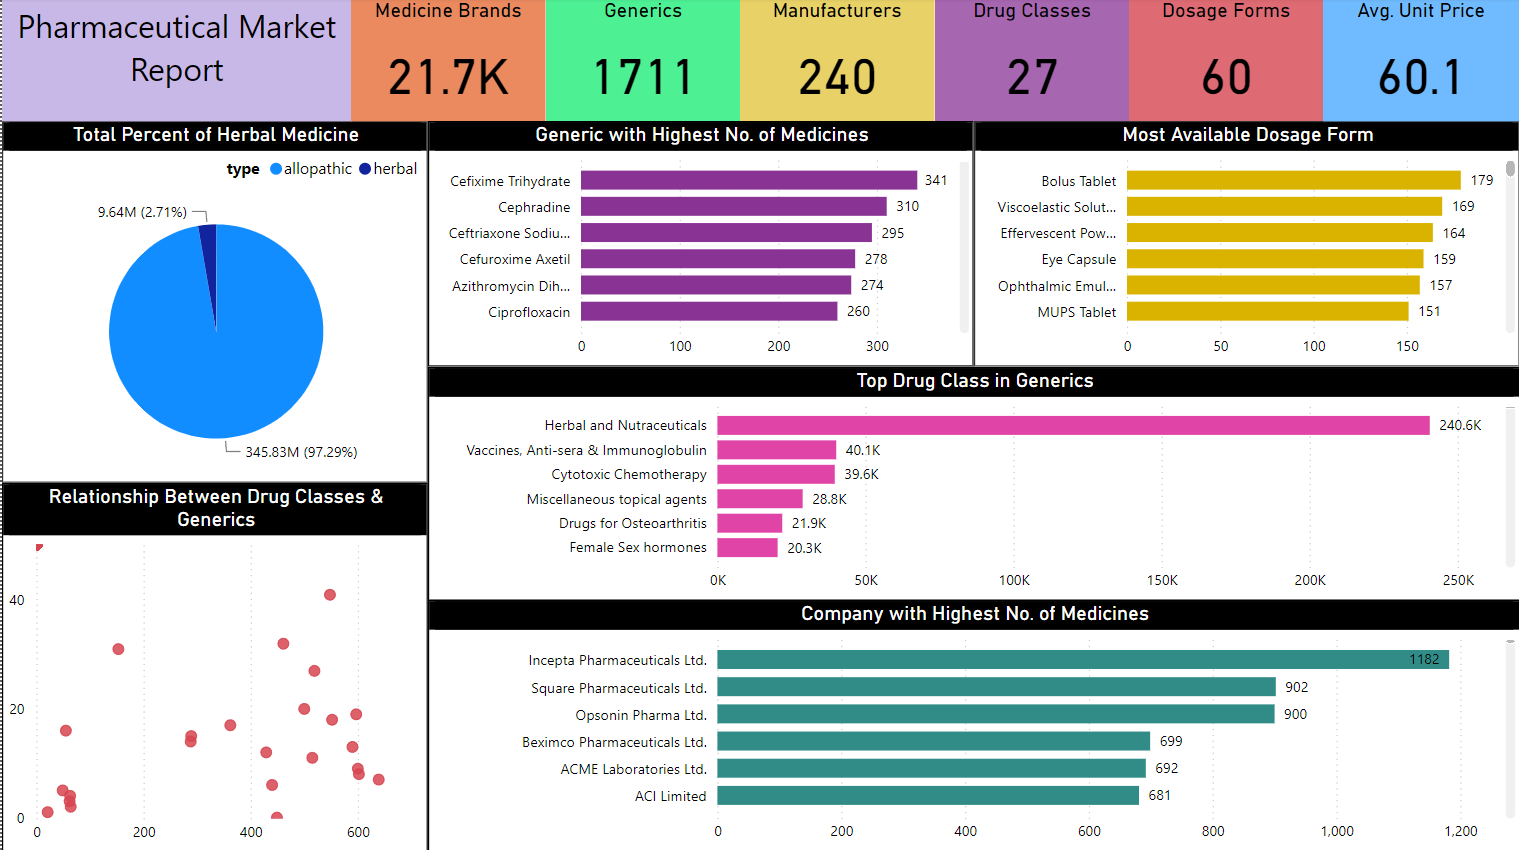

This screenshot's page, from the dashboard's own definition file:
{"tool":"powerbi","page":{"name":"Exploratory Data Analysis","canvas":[1280,720],"ordinal":0},"visuals":[{"type":"pieChart","title":"Total Percent of Herbal Medicine","fields":{"Y":["Sum(medicine.brand id)"],"Category":["medicine.type"]},"box":[0,103.7,359.2,305.2],"z":0},{"type":"textbox","box":[0,0,294.6,103.9],"z":1000},{"type":"card","title":"Medicine Brands","fields":{"Values":["Count(medicine.brand id)"]},"box":[294.6,0,163.9,103.9],"z":2000},{"type":"card","title":"Generics","fields":{"Values":["Count(generic.generic id)"]},"box":[458.5,0,163.9,103.9],"z":3000},{"type":"card","title":"Manufacturers","fields":{"Values":["Count(manufacturer.manufacturer id)"]},"box":[622.4,0,163.9,103.9],"z":4000},{"type":"card","title":"Drug Classes","fields":{"Values":["Count(drug class.drug class id)"]},"box":[786.3,0,163.9,103.9],"z":5000},{"type":"card","title":"Dosage Forms","fields":{"Values":["Count(dosage form.dosage form id)"]},"box":[950.1,0,163.9,103.9],"z":6000},{"type":"barChart","title":"Most Available Dosage Form","fields":{"Category":["dosage form.dosage form name"],"Y":["Max(dosage form.dosage form id)"]},"box":[819.4,103.9,460.3,206.9],"z":7000},{"type":"barChart","title":"Generic with Highest No. of Medicines","fields":{"Category":["medicine.generic"],"Y":["Count(medicine.brand id)"]},"box":[359.1,103.9,460.3,206.9],"z":8000},{"type":"barChart","title":"Top Drug Class in Generics","fields":{"Y":["Sum(generic.generic id)"],"Category":["generic.drug class"]},"box":[359.1,310.7,920.6,197],"z":9000},{"type":"barChart","title":"Company with Highest No. of Medicines","fields":{"Y":["Count(medicine.brand id)"],"Category":["medicine.manufacturer"]},"box":[359.1,507.8,920.6,212.2],"z":10000},{"type":"scatterChart","title":"Relationship Between Drug Classes & Generics","fields":{"X":["drug class.drug class id"],"Y":["manufacturer.generics count"]},"box":[0,408.9,359.2,311.1],"z":11000},{"type":"card","title":"Avg. Unit Price","fields":{"Values":["Avg(medicine.Price)"]},"box":[1114,0,165.7,103.9],"z":12000}]}

Visuals, with their boxes in screenshot pixels (x1, y1, x2, y2), scaled from the page's 1280x720 canvas onto the 1519x850 screenshot:
"Total Percent of Herbal Medicine" pieChart: bbox=[0, 122, 426, 483]
textbox: bbox=[0, 0, 350, 123]
"Medicine Brands" card: bbox=[350, 0, 544, 123]
"Generics" card: bbox=[544, 0, 739, 123]
"Manufacturers" card: bbox=[739, 0, 933, 123]
"Drug Classes" card: bbox=[933, 0, 1128, 123]
"Dosage Forms" card: bbox=[1128, 0, 1322, 123]
"Most Available Dosage Form" barChart: bbox=[972, 123, 1518, 367]
"Generic with Highest No. of Medicines" barChart: bbox=[426, 123, 972, 367]
"Top Drug Class in Generics" barChart: bbox=[426, 367, 1518, 599]
"Company with Highest No. of Medicines" barChart: bbox=[426, 599, 1518, 849]
"Relationship Between Drug Classes & Generics" scatterChart: bbox=[0, 483, 426, 849]
"Avg. Unit Price" card: bbox=[1322, 0, 1518, 123]
